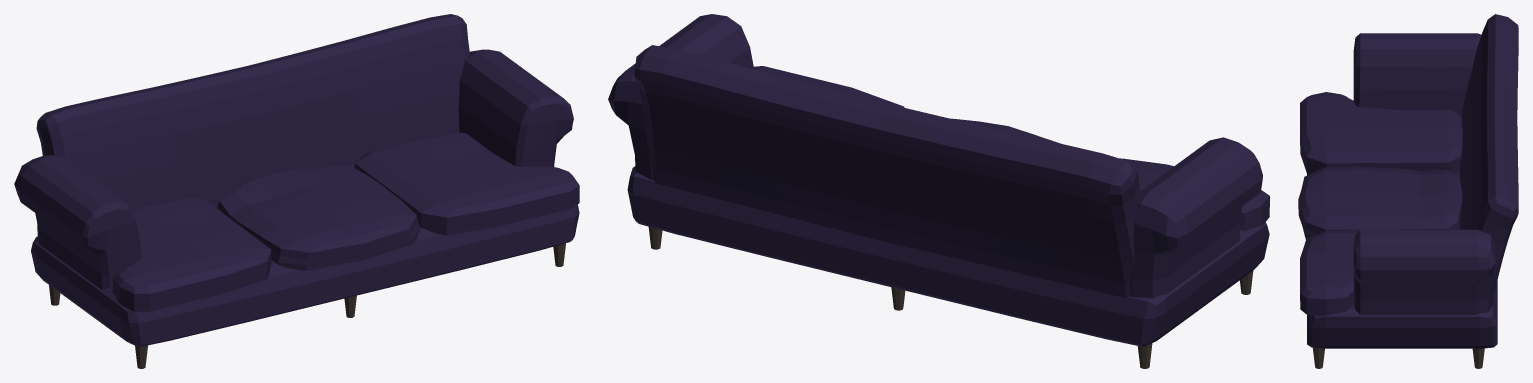
3 views of the same model, side by side, from view 1: azimuth 30°, elevation 25°; view 2: azimuth 150°, elevation 25°; view 3: azimuth 270°, elevation 25° (orthographic). The views are drawn at different scales.
Visible parts, largest first — view 1: Sofa_Cube; view 2: Sofa_Cube; view 3: Sofa_Cube.
Part boxes in pixels (x1,y1,x2,y2): Sofa_Cube: [14, 14, 579, 368]; Sofa_Cube: [608, 14, 1269, 368]; Sofa_Cube: [1298, 14, 1518, 368].
Bounding box in the file's own units: 4.24 × 1.51 × 1.78.
